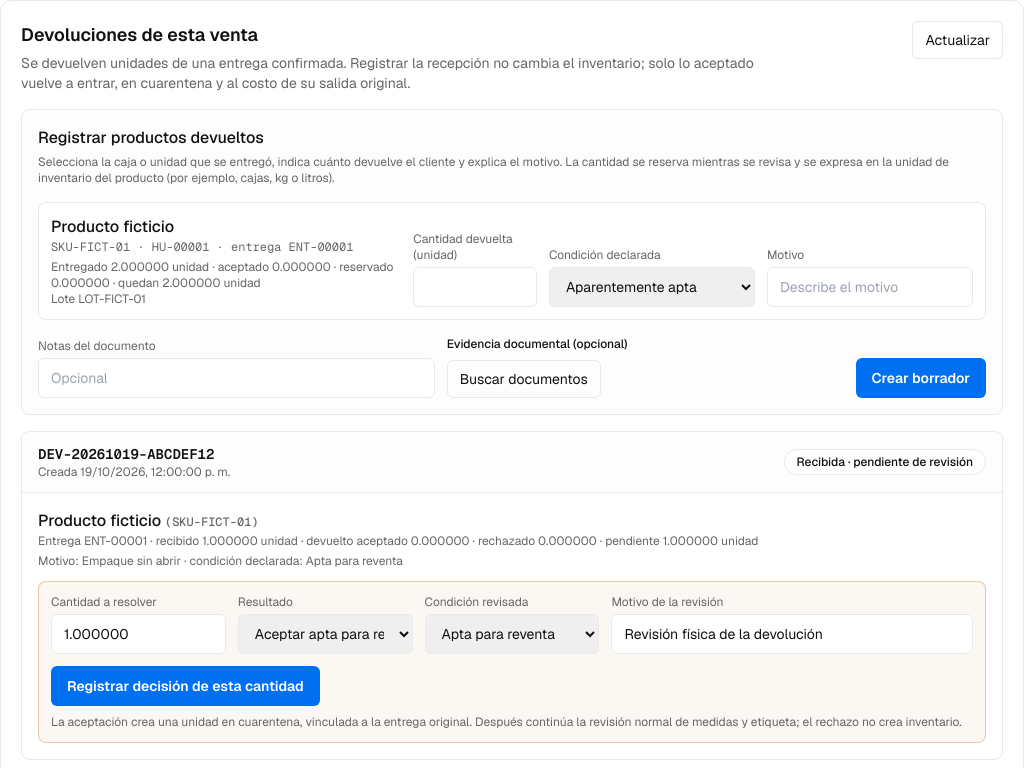
Test: SalesReturnsPanel › acepta una cantidad parcial solo después de registrar una decisión explícita
What coordinates should you click on to do the following:
click the button "Registrar decisión de esta cantidad"
I would click on:
 (185, 686)
Its box is [51,666,320,706].
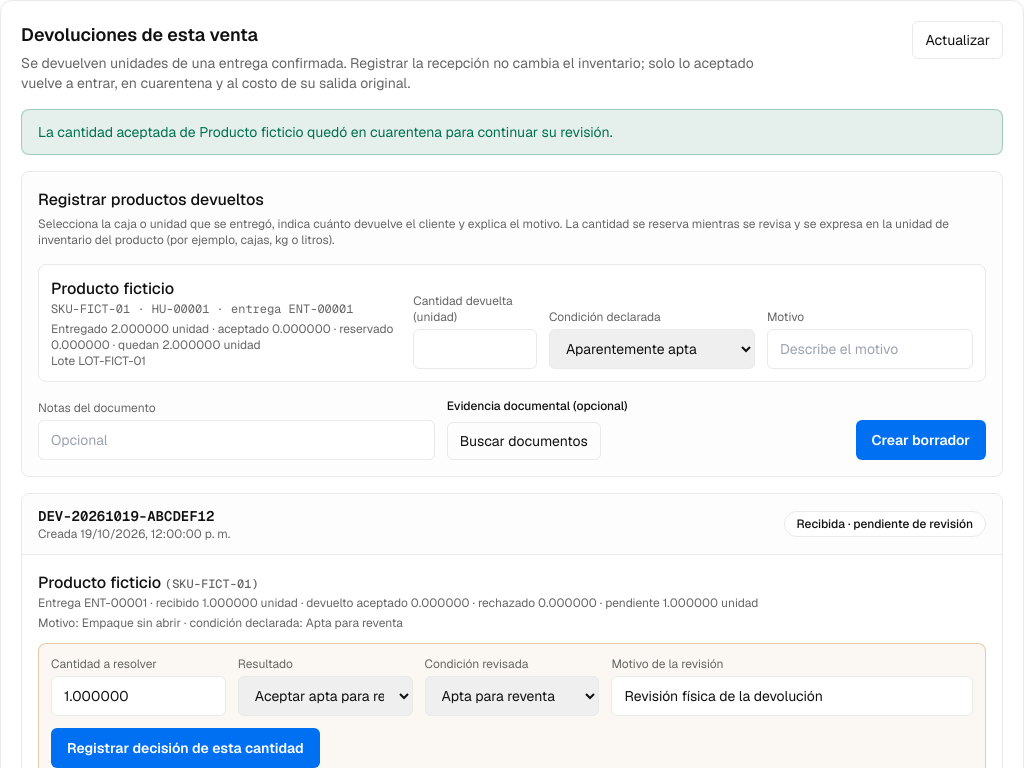
Expected: the message shows "quedó en cuarentena", [38,123,612,141]
